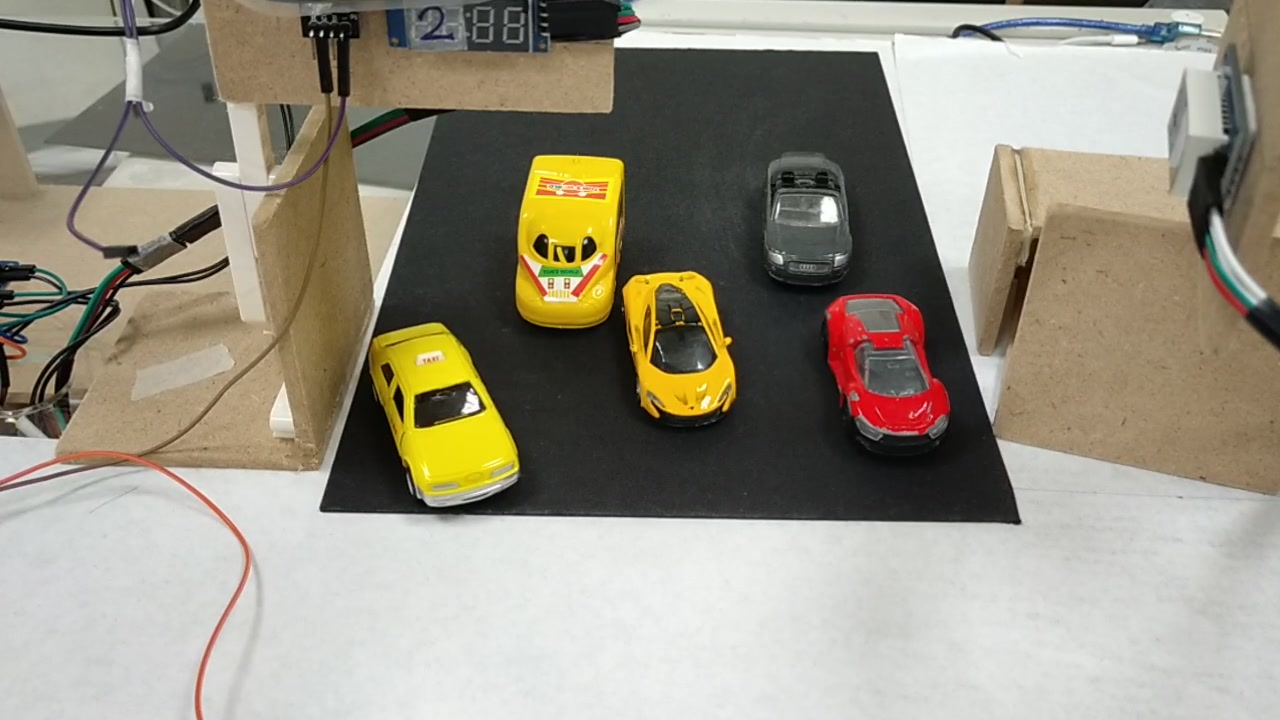car: (367, 328, 523, 502), (815, 296, 948, 452), (623, 271, 734, 421), (755, 151, 855, 285)
